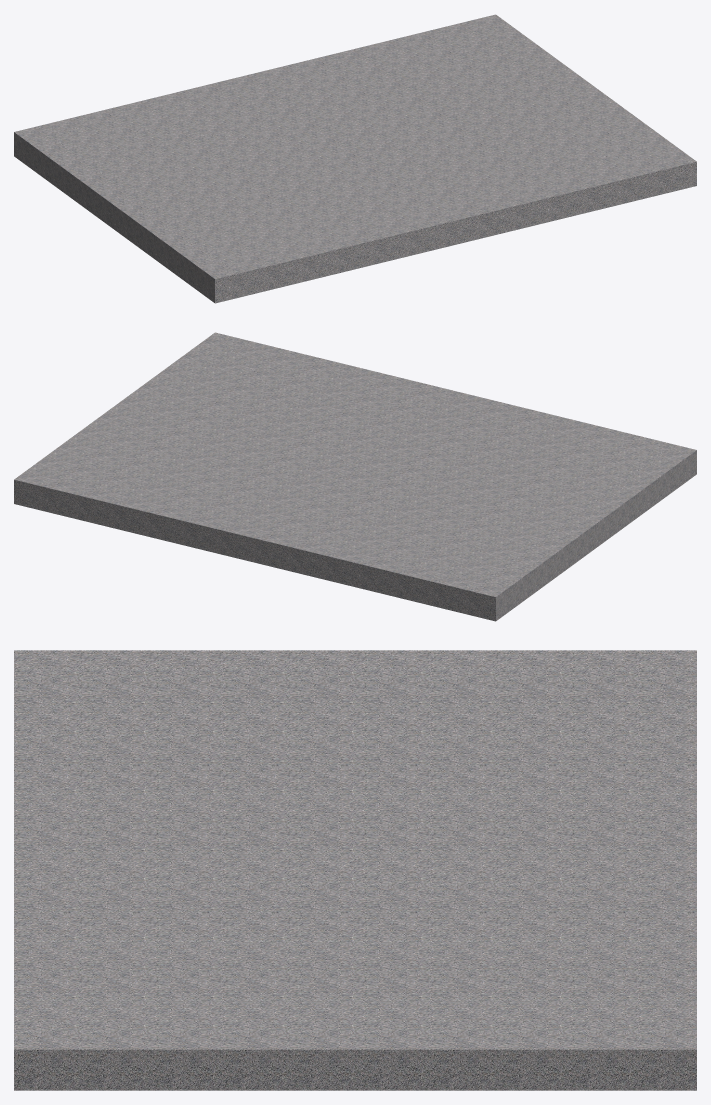
3 views of the same model, one above another, from view 1: azimuth 30°, elevation 25°; view 2: azimuth 150°, elevation 25°; view 3: azimuth 270°, elevation 25° (orthographic). The views are drawn at different scales.
Parts seen in each view (by area): view 1: 0_3_1_2_1_2_2; view 2: 0_3_1_2_1_2_2; view 3: 0_3_1_2_1_2_2.
Part boxes in pixels (x1,y1,x2,y2): 0_3_1_2_1_2_2: (14, 14, 696, 303); 0_3_1_2_1_2_2: (14, 332, 696, 621); 0_3_1_2_1_2_2: (14, 650, 696, 1090).
Size of the model in its own units: 4.15 by 0.2 by 3.
Materials: 1 (1 with a texture image).
